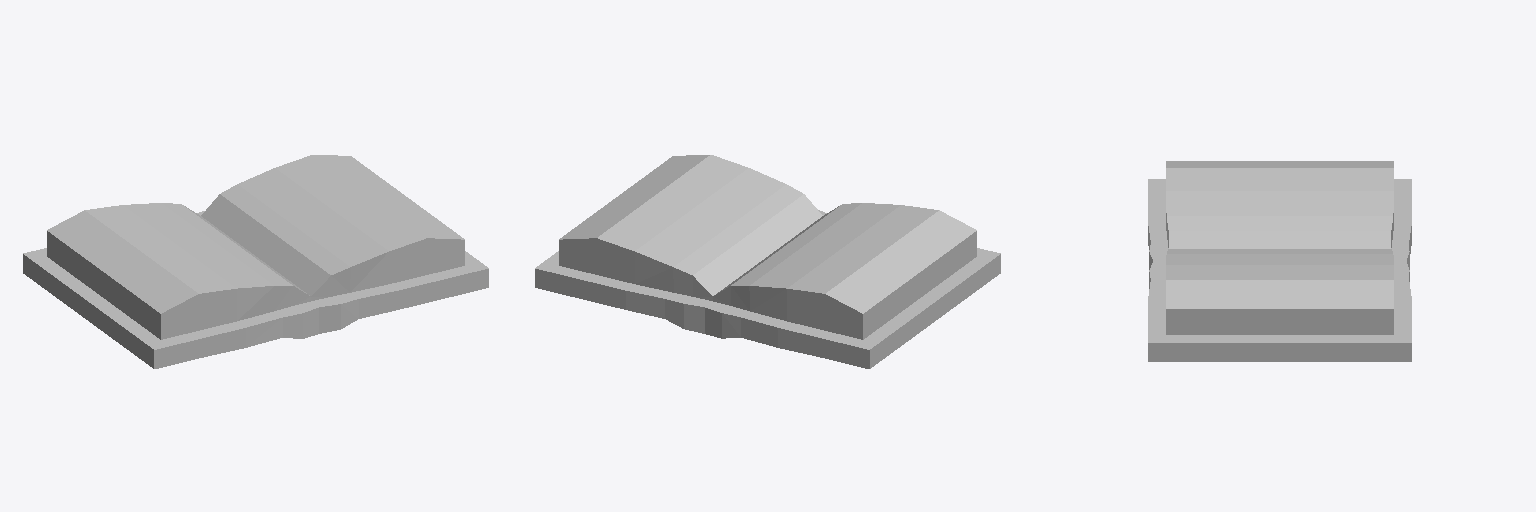
The model's file is libro_abierto_peque.obj.
3 views of the same model, side by side, from view 1: azimuth 30°, elevation 25°; view 2: azimuth 150°, elevation 25°; view 3: azimuth 270°, elevation 25° (orthographic).
Parts seen in each view (by area): view 1: Libro_Abierto001; view 2: Libro_Abierto001; view 3: Libro_Abierto001.
Part boxes in pixels (bbox=[...]): Libro_Abierto001: bbox=[23, 155, 488, 368]; Libro_Abierto001: bbox=[535, 155, 1000, 368]; Libro_Abierto001: bbox=[1148, 161, 1411, 361].
Bounding box in the file's own units: 6.19 × 1.12 × 4.22.